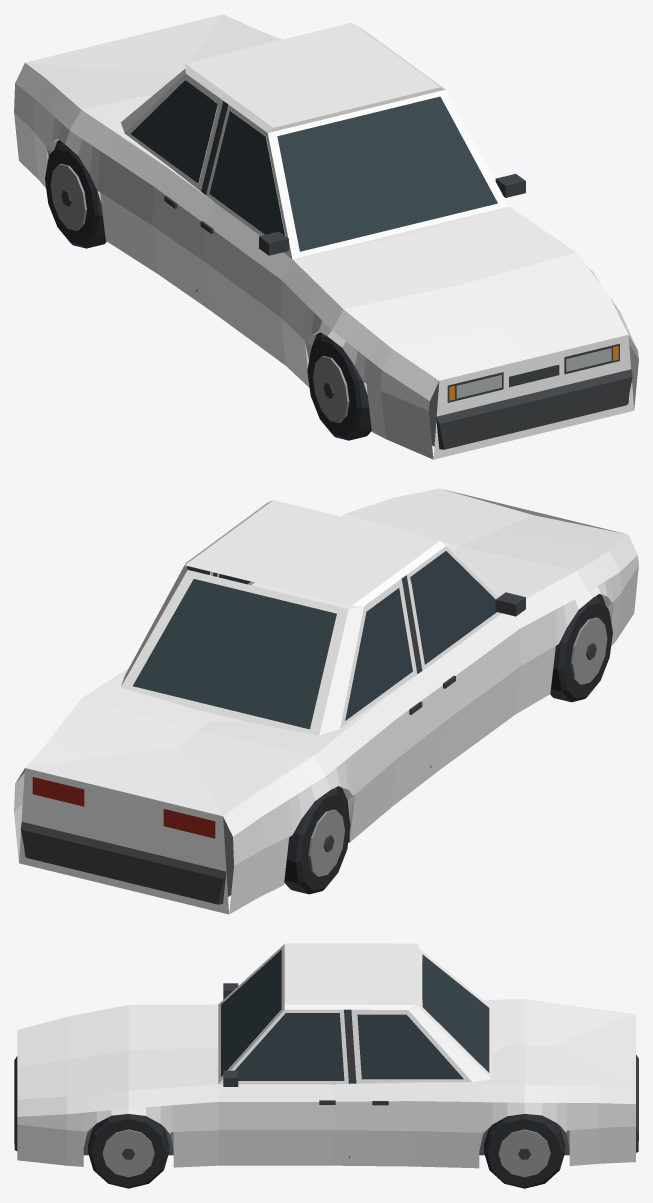
File: hayase_komorebi_s.glb
3 views of the same model, one above another, from view 1: azimuth 30°, elevation 25°; view 2: azimuth 150°, elevation 25°; view 3: azimuth 270°, elevation 25° (orthographic). The views are drawn at different scales.
Visible parts, largest first — view 1: hayase_komorebi_s; view 2: hayase_komorebi_s; view 3: hayase_komorebi_s.
Part boxes in pixels (left/top/right/bottom): hayase_komorebi_s: left=14, top=14, right=638, bottom=459; hayase_komorebi_s: left=14, top=488, right=638, bottom=914; hayase_komorebi_s: left=14, top=943, right=638, bottom=1188.
Size of the model in its own units: 1.84 by 1.48 by 4.97.
Materials: 8 (1 with a texture image).
